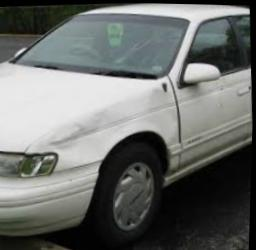Bonnet: (17, 111, 114, 155)
